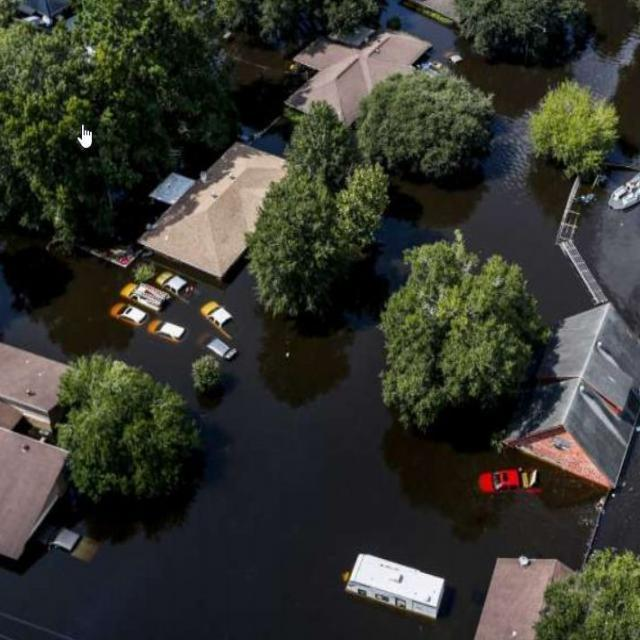flood: (0, 0, 640, 640), (500, 432, 640, 570), (576, 170, 640, 334)
house: (520, 299, 640, 486), (129, 150, 288, 288), (294, 29, 430, 126), (0, 418, 72, 578), (340, 553, 446, 626), (472, 551, 556, 640)
